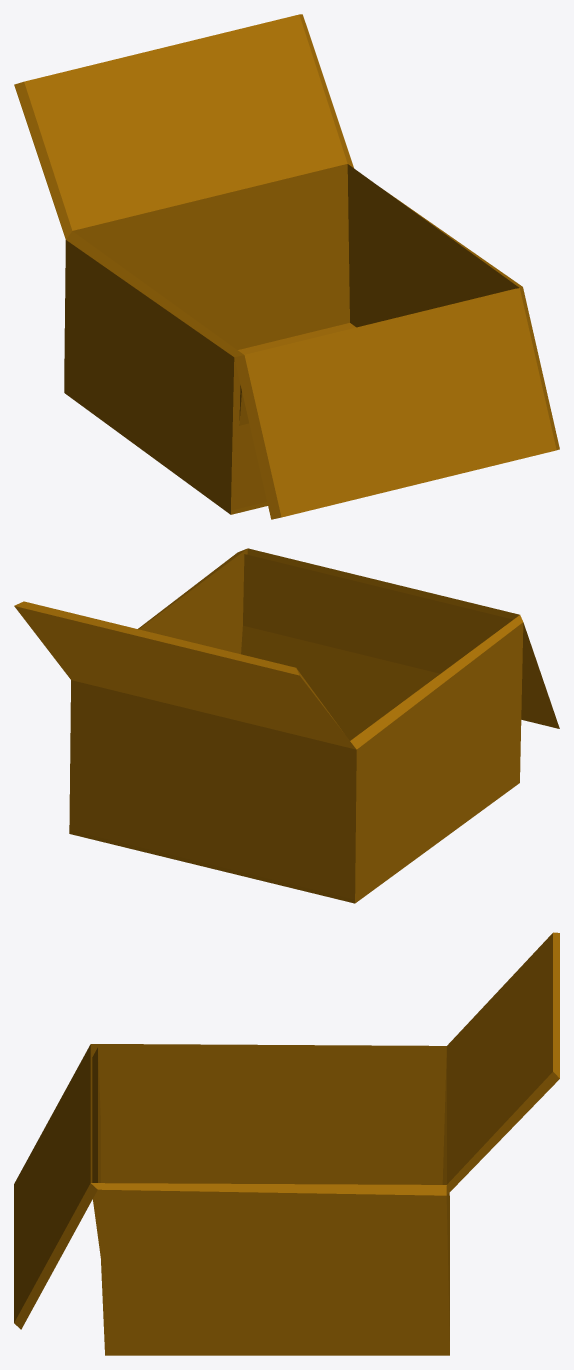
3 renders of one model, top to bottom at view 1: azimuth 30°, elevation 25°; view 2: azimuth 150°, elevation 25°; view 3: azimuth 270°, elevation 25°, orthographic. The views are drawn at different scales.
Parts seen in each view (by area): view 1: ChipfoodCoDamaged.002; view 2: ChipfoodCoDamaged.002; view 3: ChipfoodCoDamaged.002.
Boxes of the visible parts, x1,y1,x2,y2 form: ChipfoodCoDamaged.002: (14,14,559,519); ChipfoodCoDamaged.002: (14,548,559,903); ChipfoodCoDamaged.002: (14,932,559,1355).
Size of the model in its own units: 4.04 by 3.61 by 6.33.
1 material, 1 textured.
